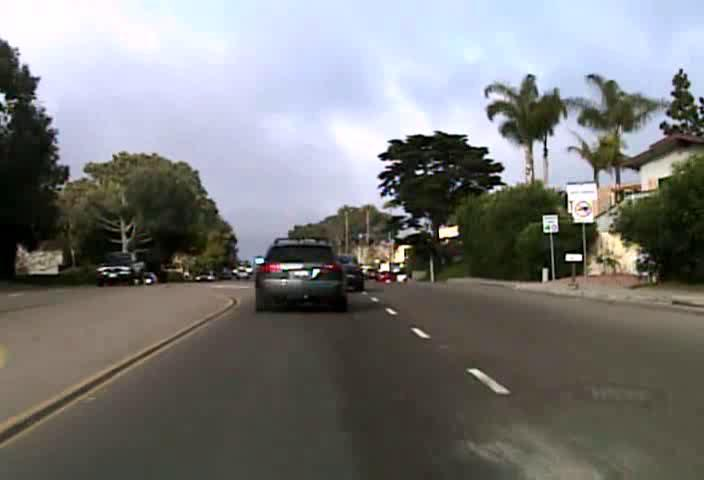speedLimit40: (542, 214, 558, 233)
